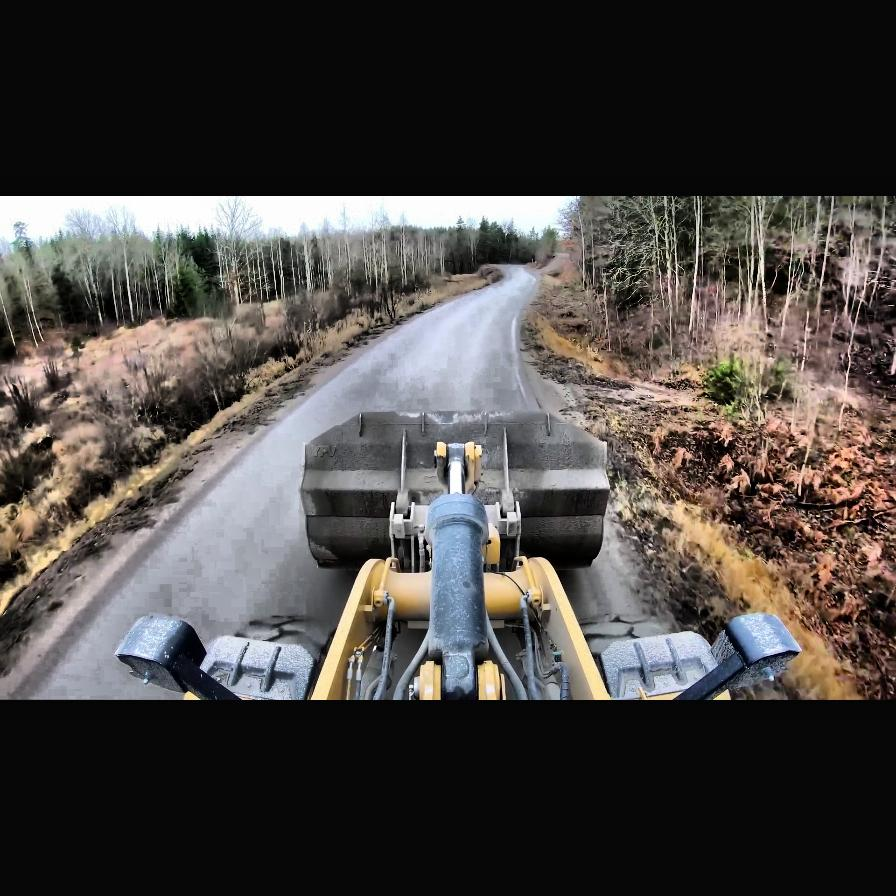anchor: (435, 440, 479, 496)
